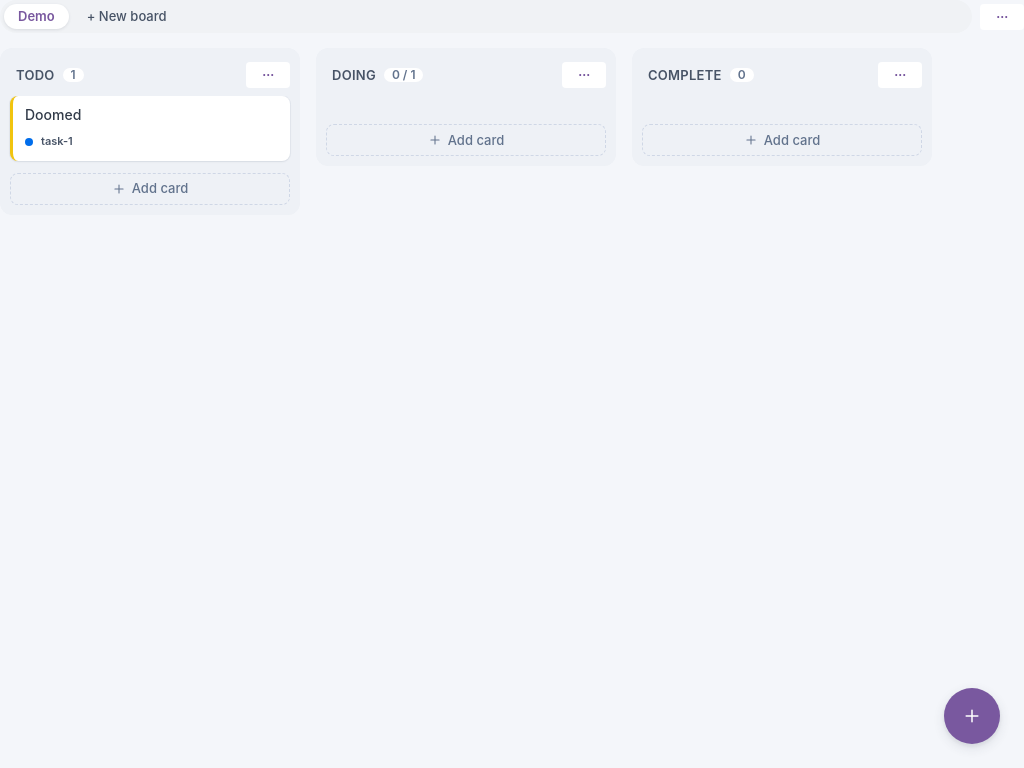
Test: KanbanBoard › deletes a card after confirmation from the modal
Click the list item with aria-label "Doomed (medium)". click: coordinates (150, 128)
box: top-left (10, 96), bottom-right (290, 161)
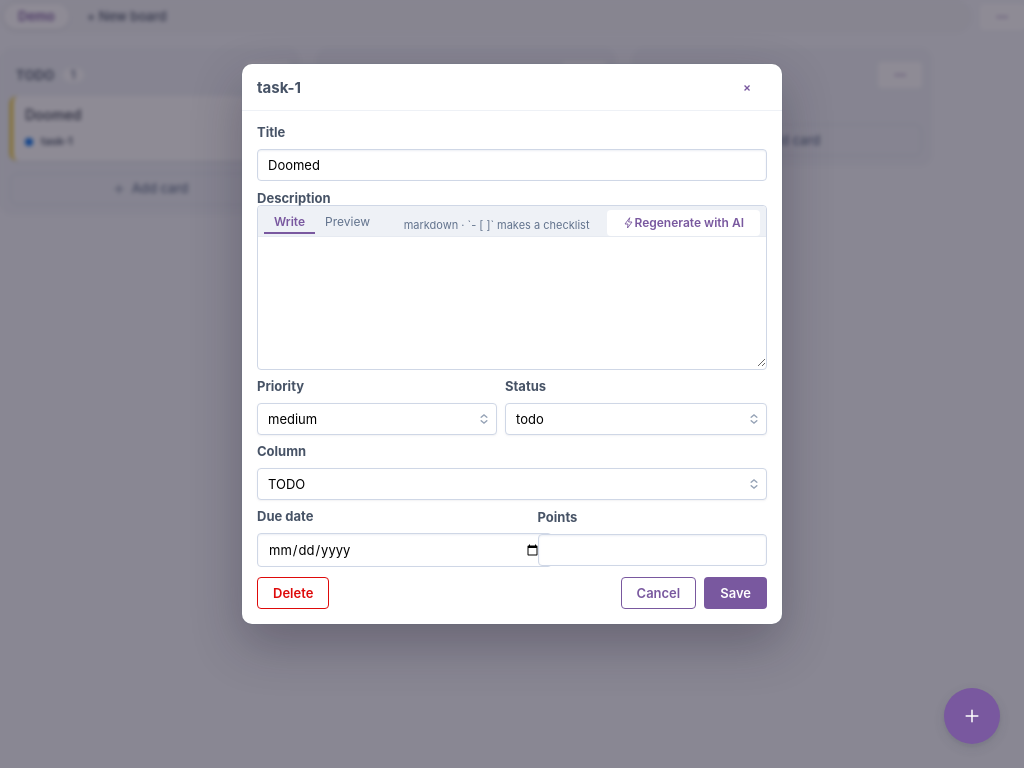
Click the button "Delete". click: coordinates (293, 593)
box: top-left (257, 577), bottom-right (329, 609)
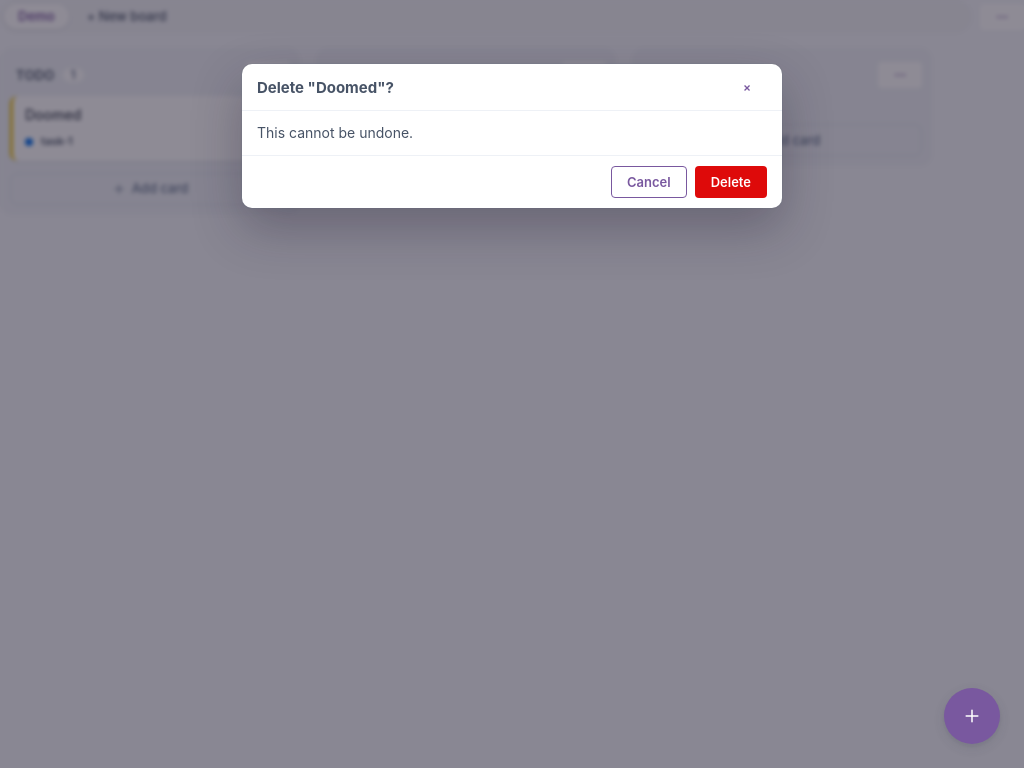
Click the button "Delete". click: coordinates (731, 182)
box: top-left (695, 166), bottom-right (767, 198)
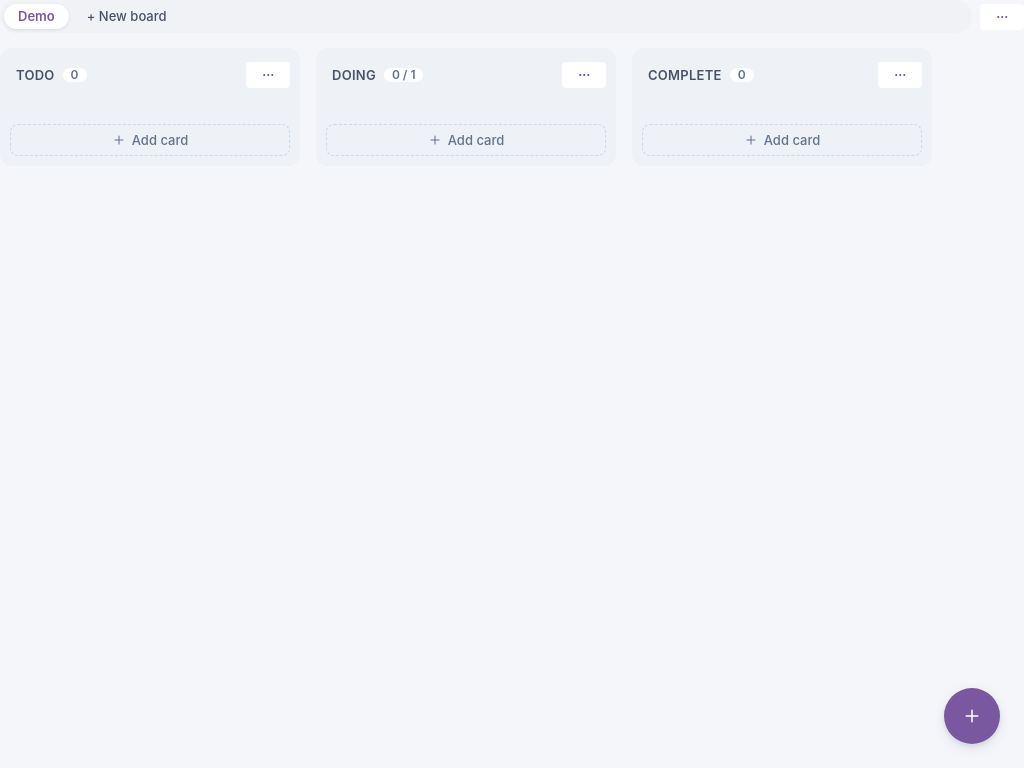
Now the text "Doomed" is gone
Now the dialog is gone
